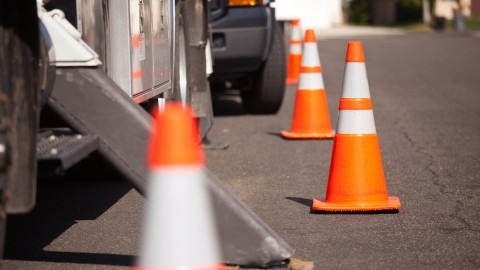cone: (132, 101, 227, 269), (313, 41, 402, 213), (282, 29, 342, 140), (282, 17, 313, 87)
